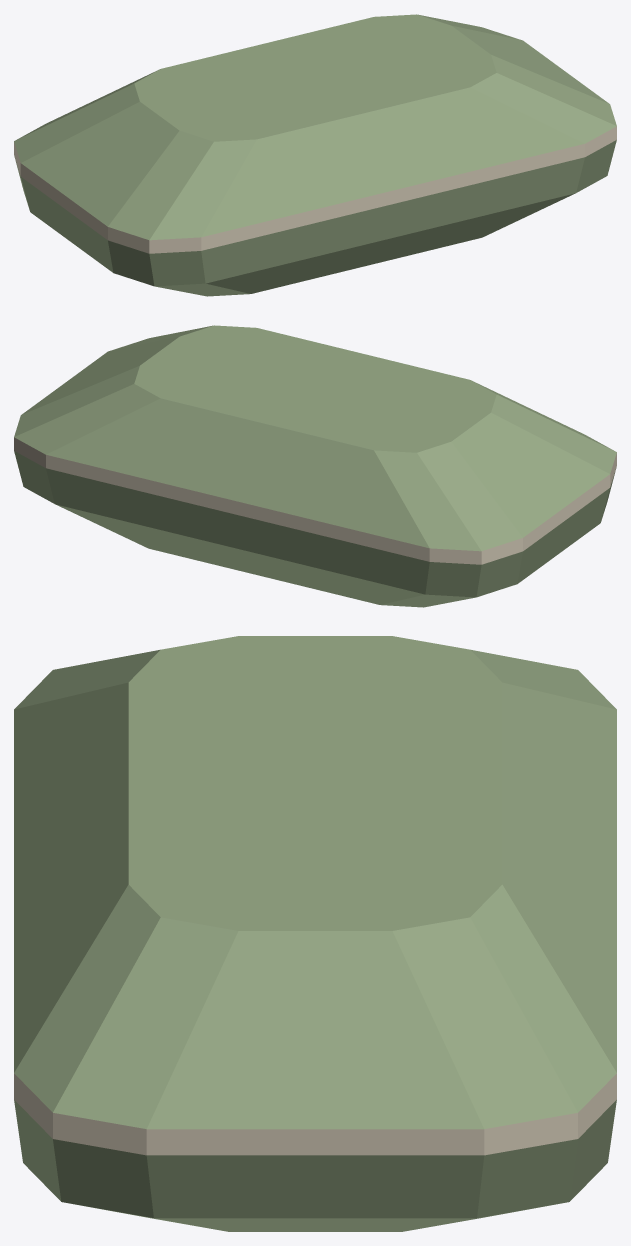
The model's file is SM_LPI_Text_CushionLumbar_01.fbx.
3 renders of one model, top to bottom at view 1: azimuth 30°, elevation 25°; view 2: azimuth 150°, elevation 25°; view 3: azimuth 270°, elevation 25°, orthographic. The views are drawn at different scales.
Parts seen in each view (by area): view 1: SM_LPI_Text_CushionLumbar_01; view 2: SM_LPI_Text_CushionLumbar_01; view 3: SM_LPI_Text_CushionLumbar_01.
Boxes of the visible parts, x1,y1,x2,y2 form: SM_LPI_Text_CushionLumbar_01: (14,14,616,296); SM_LPI_Text_CushionLumbar_01: (14,325,616,607); SM_LPI_Text_CushionLumbar_01: (14,636,616,1231).
Size of the model in its own units: 0.56 by 0.16 by 0.3.
